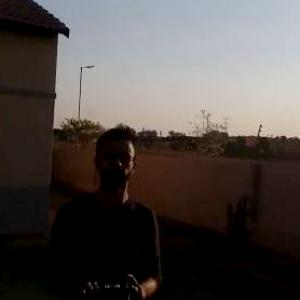follow: (38, 123, 166, 299)
